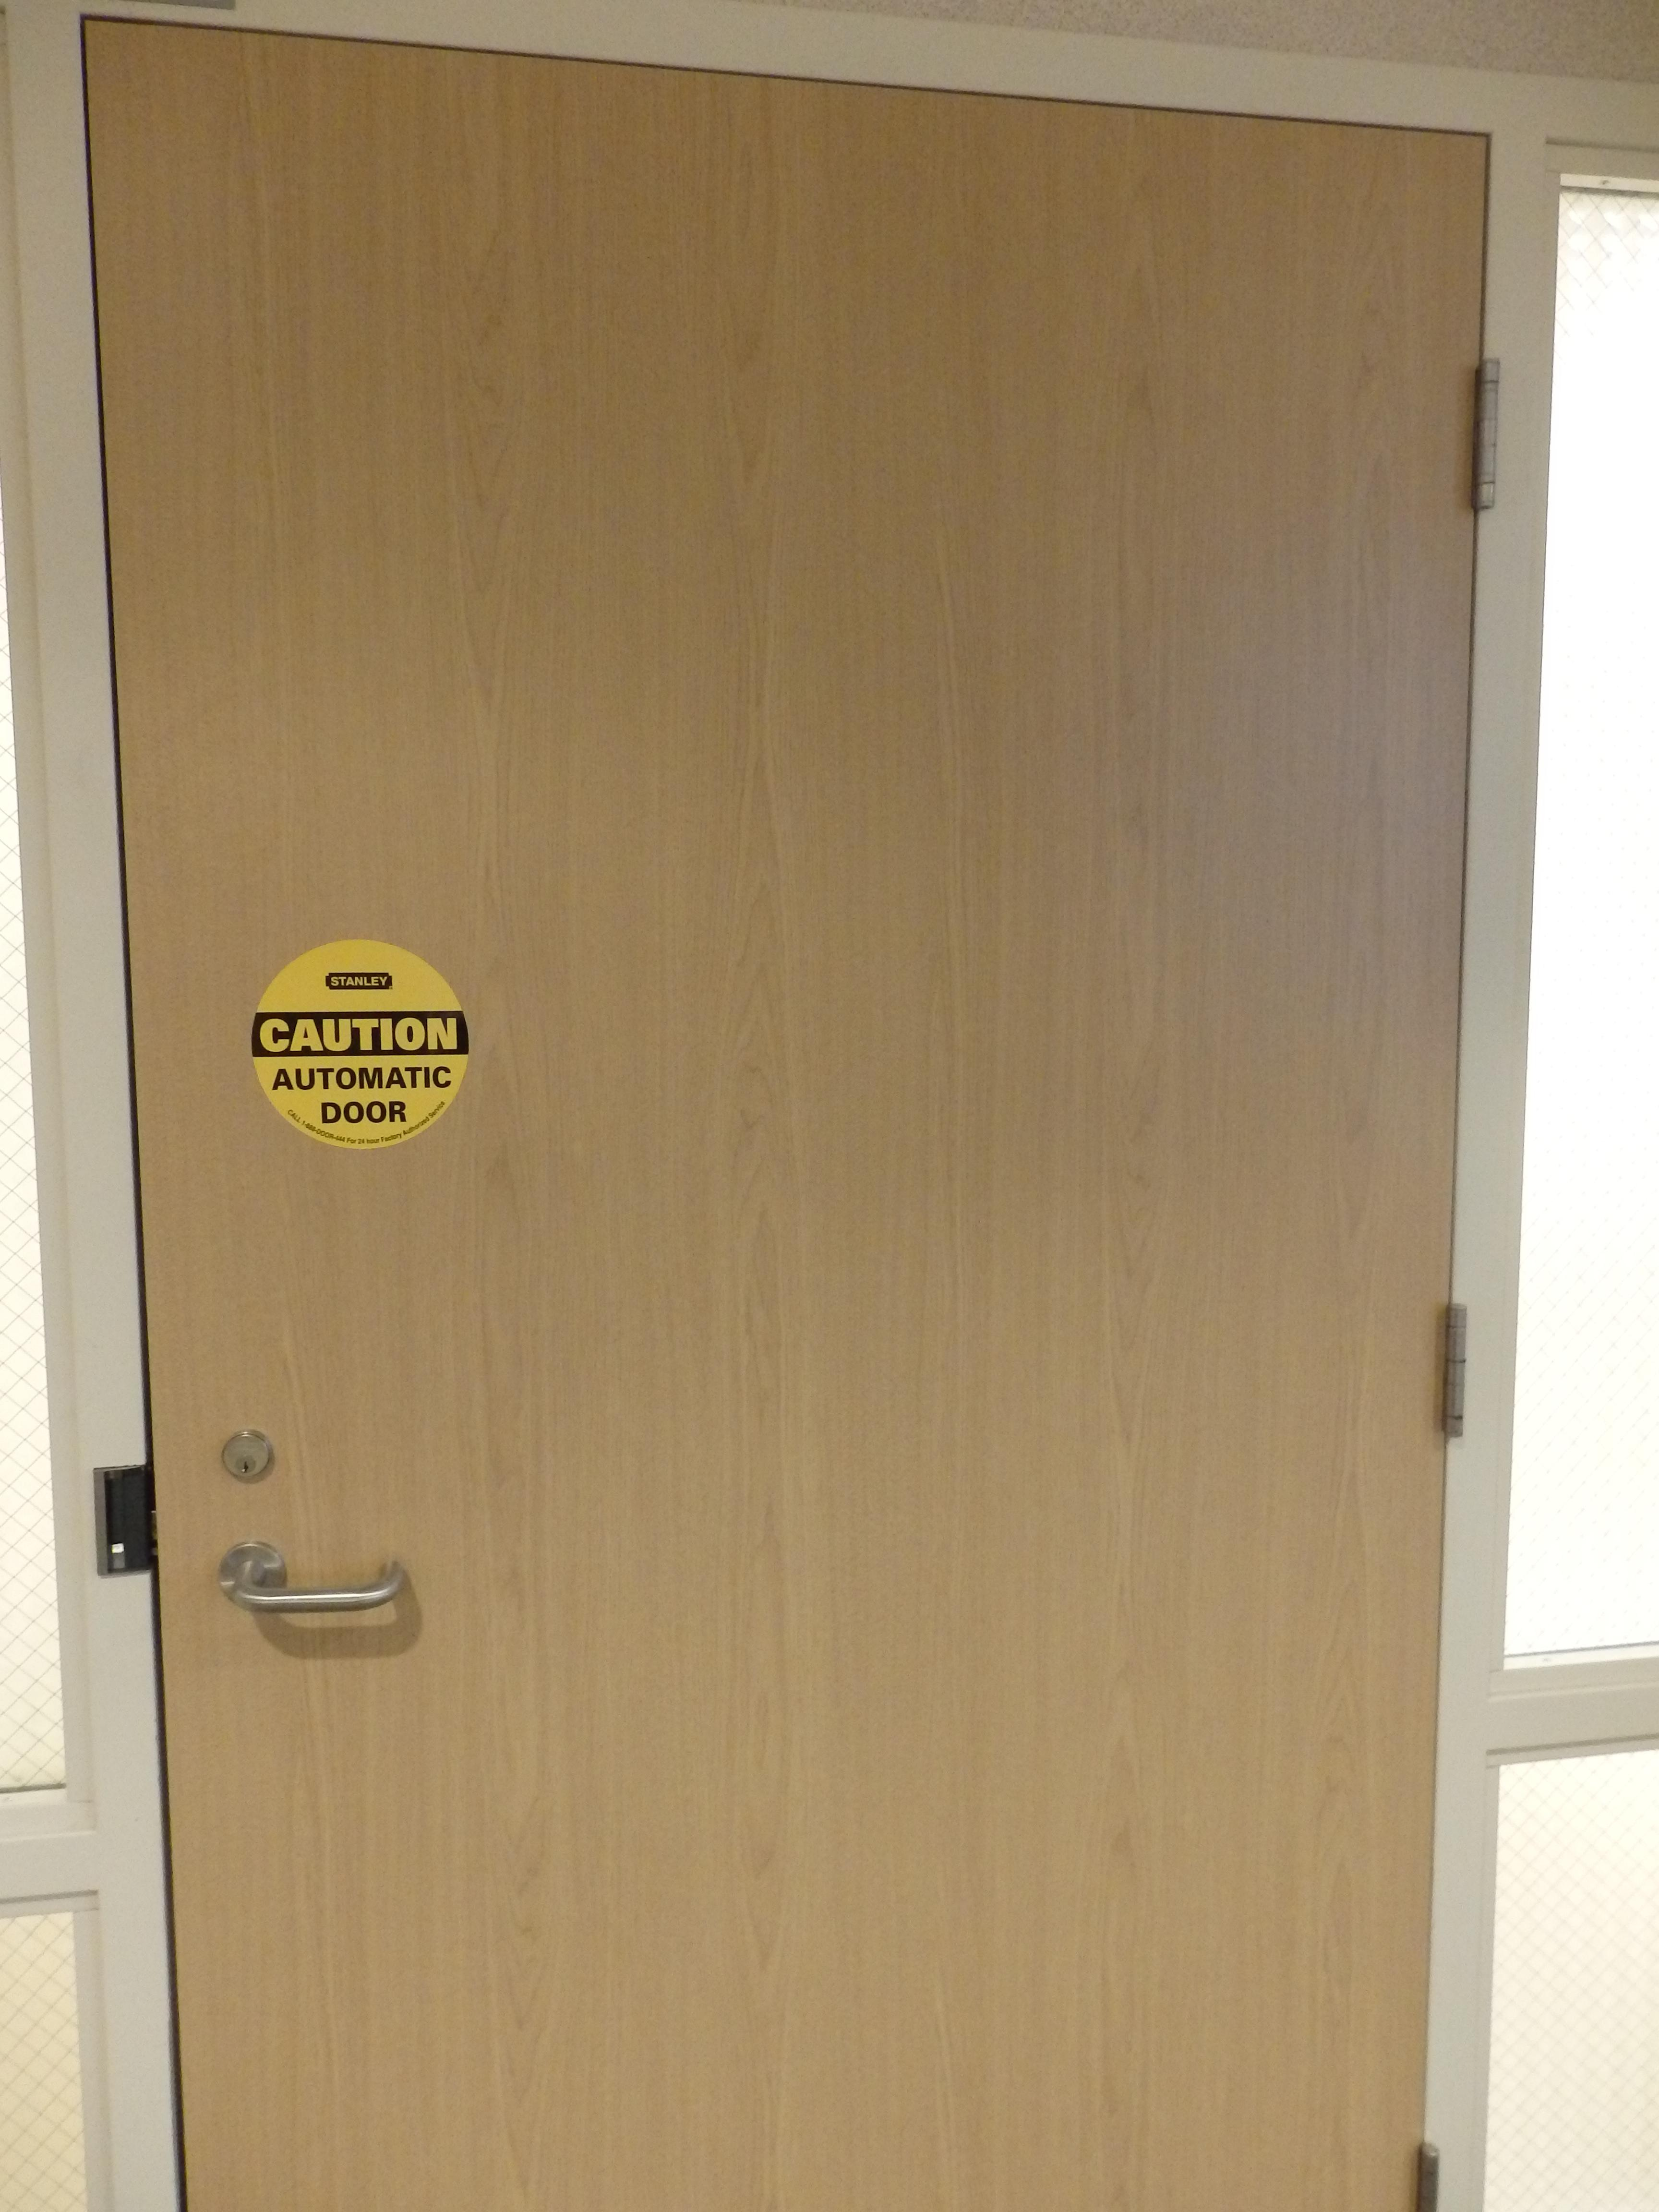door: (59, 5, 1480, 2212)
